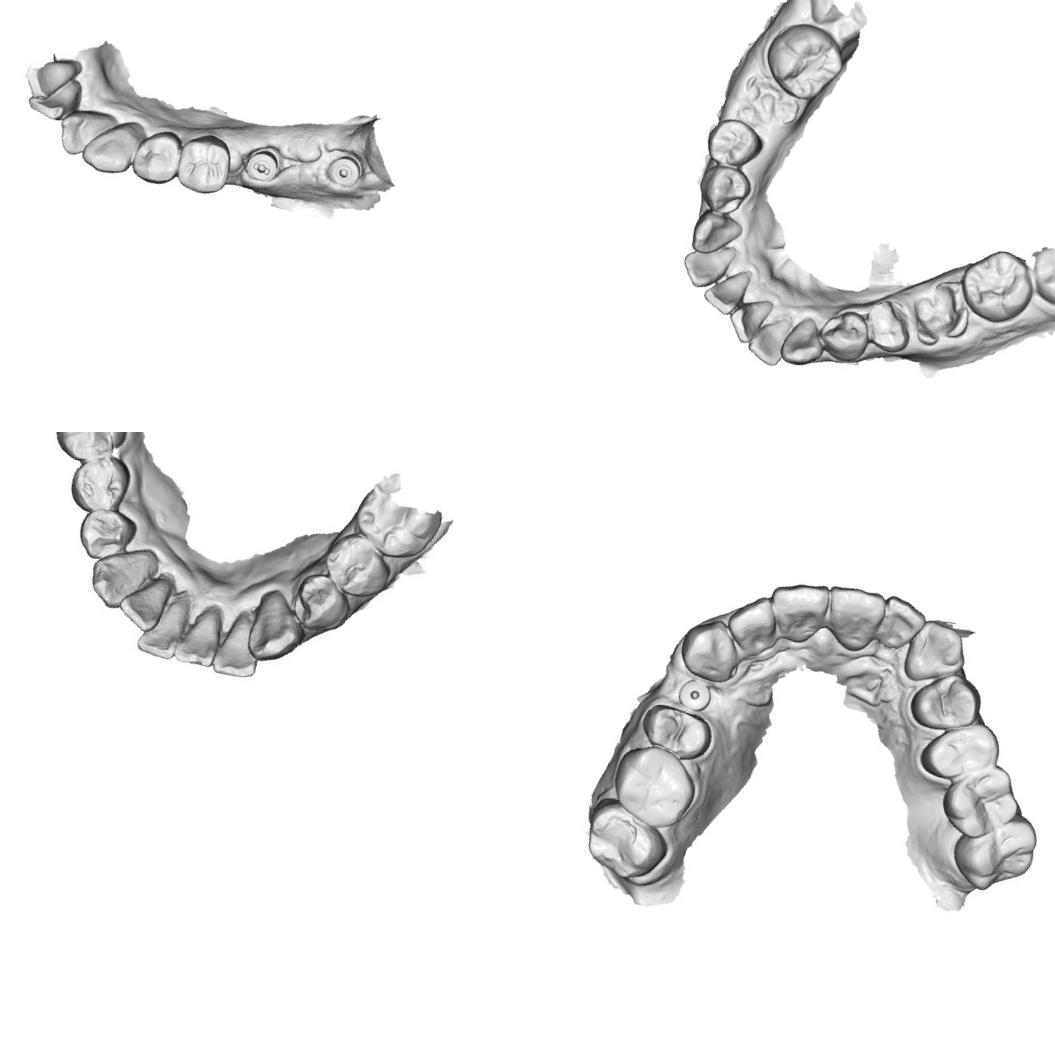canine: (896, 612, 974, 696), (670, 608, 748, 688), (240, 586, 311, 672), (87, 542, 157, 614), (77, 110, 143, 180), (776, 310, 831, 371), (686, 206, 746, 261)
implant: (320, 147, 366, 193), (672, 674, 714, 716)
implant_minus: (240, 144, 284, 186)
incisor: (758, 570, 836, 651), (816, 578, 890, 659), (718, 587, 784, 660), (52, 102, 118, 165), (872, 591, 932, 658), (175, 596, 229, 670), (116, 568, 173, 636), (213, 609, 268, 678), (138, 589, 192, 659), (676, 234, 738, 294), (699, 260, 754, 320), (743, 306, 794, 368), (722, 290, 774, 348), (20, 54, 65, 103), (22, 86, 80, 124)
molar: (941, 796, 1047, 904), (602, 736, 705, 836), (574, 791, 675, 890), (932, 750, 1032, 849), (757, 14, 852, 108), (351, 470, 451, 559), (952, 241, 1042, 330), (46, 432, 131, 463)
premolar: (912, 705, 1009, 796), (903, 660, 991, 742), (321, 528, 398, 608), (633, 696, 718, 764), (283, 566, 358, 640), (171, 127, 238, 200), (69, 451, 139, 518), (700, 112, 768, 174), (127, 122, 186, 190), (814, 303, 875, 366), (692, 159, 756, 219), (858, 295, 918, 356), (78, 505, 134, 562)
